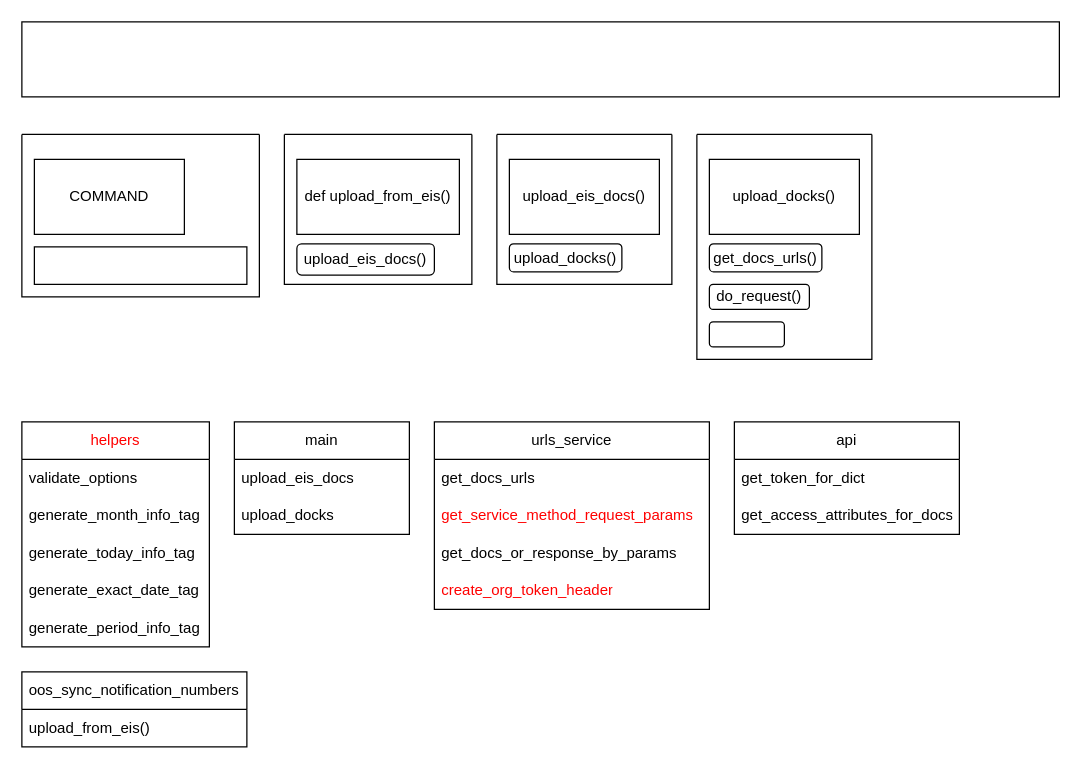
Some shapes in this 1081 by 769 pixel diagram are drawn without their labels. The centre of each missing label's shape, as x and y in pixels:
"save_file()" belongs at point (746, 334).
"Загрузка документов с EIS" belongs at point (540, 59).
"Скрипт загрузки oos_sync_notification_numbers" belongs at point (140, 265).
